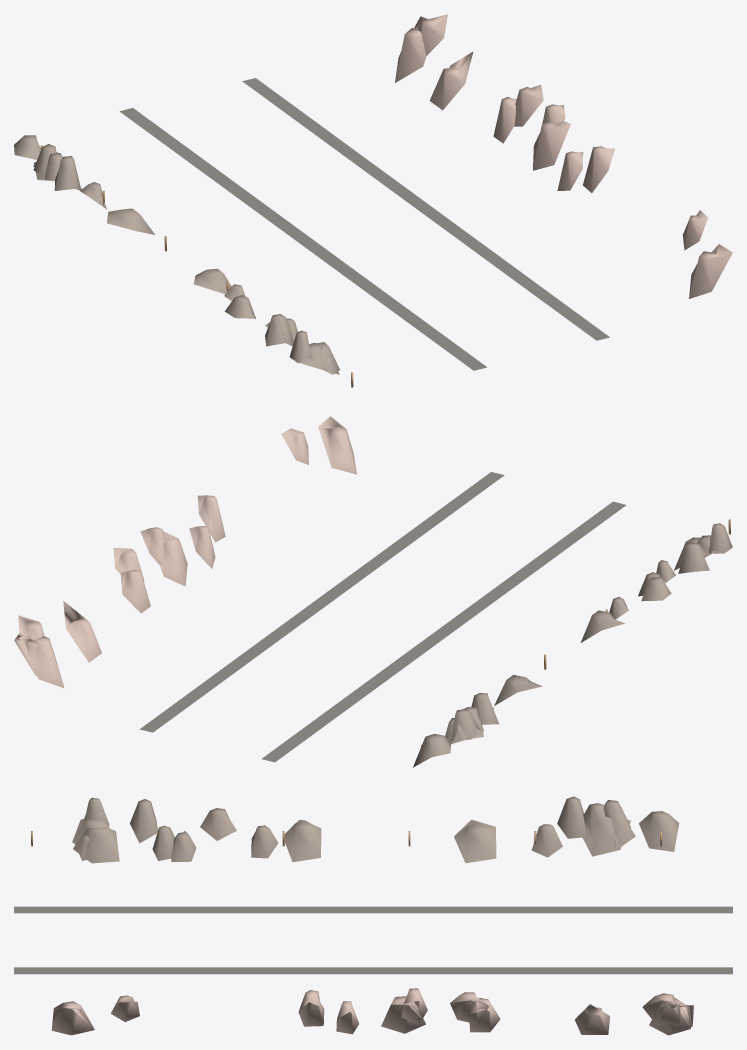
File: pit_haul_lane_detail1.glb
The picture shows the model from 3 angles, top to bottom: view 1: azimuth 30°, elevation 25°; view 2: azimuth 150°, elevation 25°; view 3: azimuth 270°, elevation 25°; orthographic projection. The views are drawn at different scales.
Parts seen in each view (by area): view 1: pit_haul_lane_detail1_mesh; view 2: pit_haul_lane_detail1_mesh; view 3: pit_haul_lane_detail1_mesh.
Boxes of the visible parts, bbox=[...] form: pit_haul_lane_detail1_mesh: bbox=[14, 14, 732, 387]; pit_haul_lane_detail1_mesh: bbox=[14, 416, 732, 767]; pit_haul_lane_detail1_mesh: bbox=[14, 796, 732, 1035].
Bounding box in the file's own units: 28.67 × 3.8 × 40.
